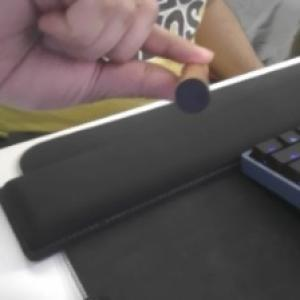Golden-E-Ciggirate: (169, 56, 216, 118)
